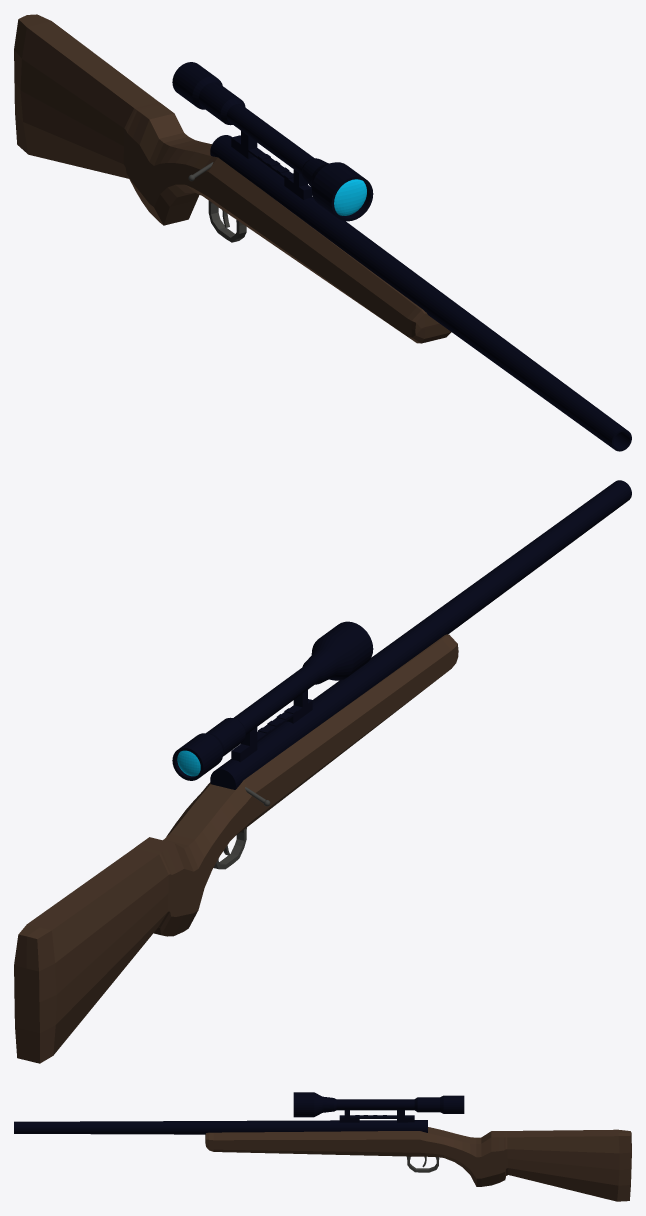
File: sniper.fbx
3 renders of one model, top to bottom at view 1: azimuth 30°, elevation 25°; view 2: azimuth 150°, elevation 25°; view 3: azimuth 270°, elevation 25°, orthographic. The views are drawn at different scales.
Visible parts, largest first — view 1: body, barrel, scope, scope_stand, scope_steklo_zadaj, trigger_guard; view 2: body, barrel, scope, scope_stand; view 3: body, barrel, scope, scope_stand, trigger_guard.
Boxes of the visible parts, <box> form: body: <box>14,14,451,343</box>; barrel: <box>210,135,631,451</box>; scope: <box>172,62,373,221</box>; scope_stand: <box>231,131,312,199</box>; scope_steklo_zadaj: <box>334,179,366,215</box>; trigger_guard: <box>208,200,246,242</box>; body: <box>14,634,458,1063</box>; barrel: <box>210,480,631,789</box>; scope: <box>172,621,373,780</box>; scope_stand: <box>231,690,312,762</box>; body: <box>205,1127,631,1201</box>; barrel: <box>14,1120,427,1134</box>; scope: <box>293,1092,464,1117</box>; scope_stand: <box>339,1110,414,1122</box>; trigger_guard: <box>406,1156,439,1172</box>.
Bounding box in the file's own units: 27.4 × 84.48 × 450.
